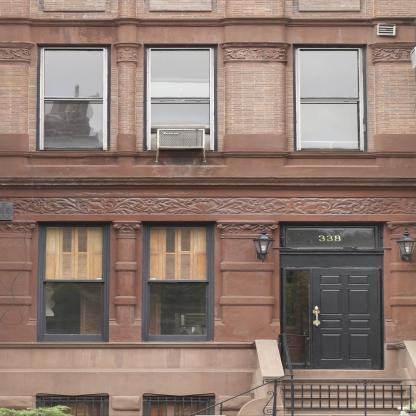Door: (310, 270, 381, 369)
Floor: (1, 214, 415, 416), (1, 35, 415, 196), (1, 1, 415, 18)
Floor Slab: (1, 18, 415, 36), (1, 197, 415, 215)
Molding: (1, 197, 415, 214), (1, 177, 415, 189), (1, 18, 415, 26)
Pillar: (219, 0, 292, 151), (215, 221, 280, 342), (367, 0, 416, 151), (0, 0, 34, 151), (0, 221, 37, 342), (113, 0, 142, 151), (109, 221, 142, 342), (385, 221, 416, 343)
Window: (143, 221, 216, 342), (37, 221, 109, 342), (293, 44, 366, 150), (144, 44, 217, 150), (38, 44, 110, 150), (281, 221, 384, 250), (285, 269, 309, 364), (143, 396, 216, 416), (37, 396, 109, 416)
